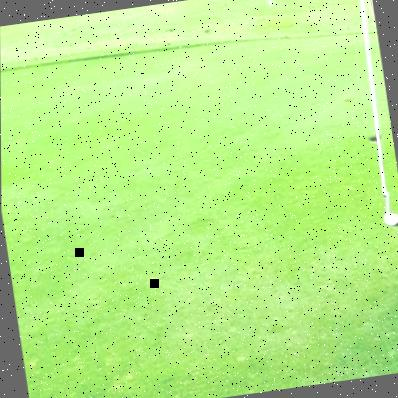GolfBall: (378, 191, 398, 229)
